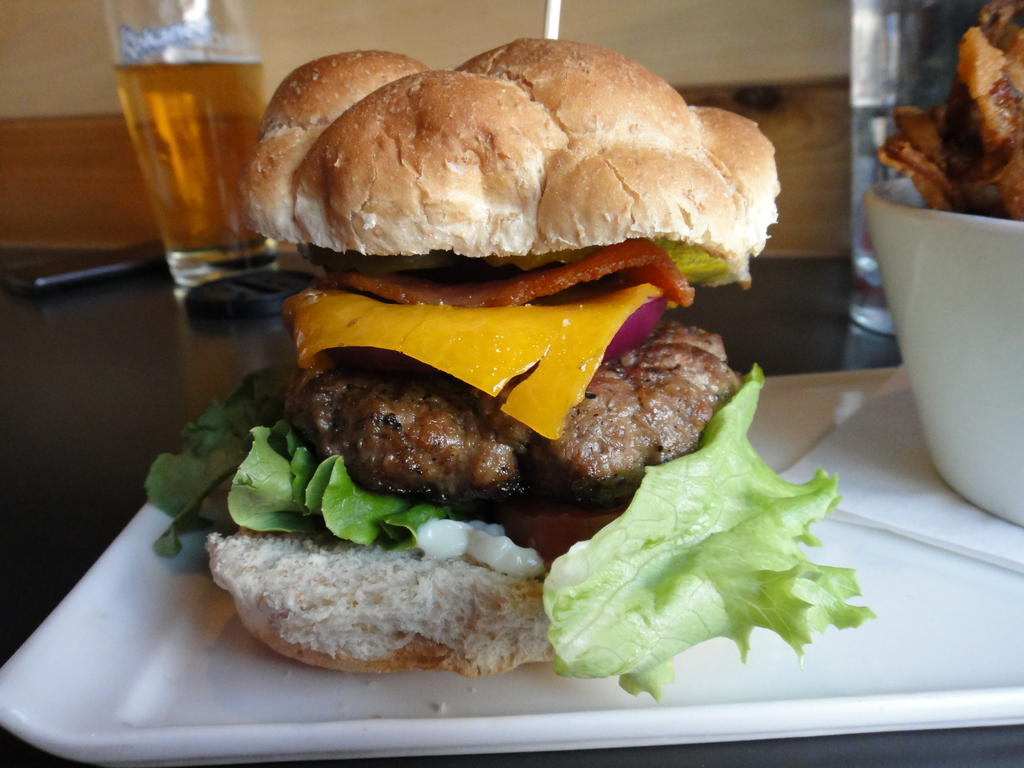Hamburger: (144, 34, 878, 704)
